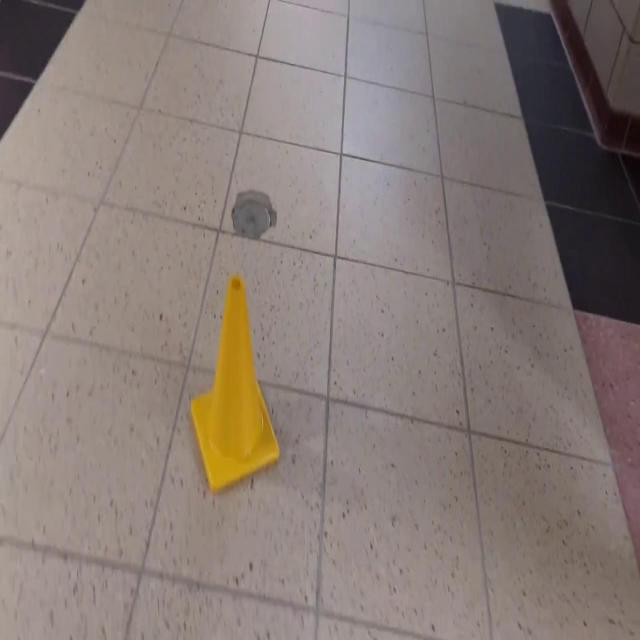frc_cone: (190, 276, 282, 494)
